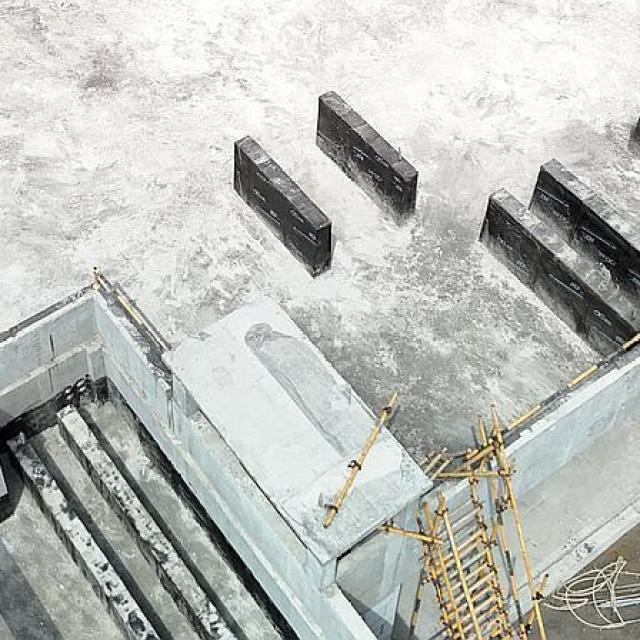edge_guardrail: (465, 331, 640, 459), (91, 264, 166, 354)
